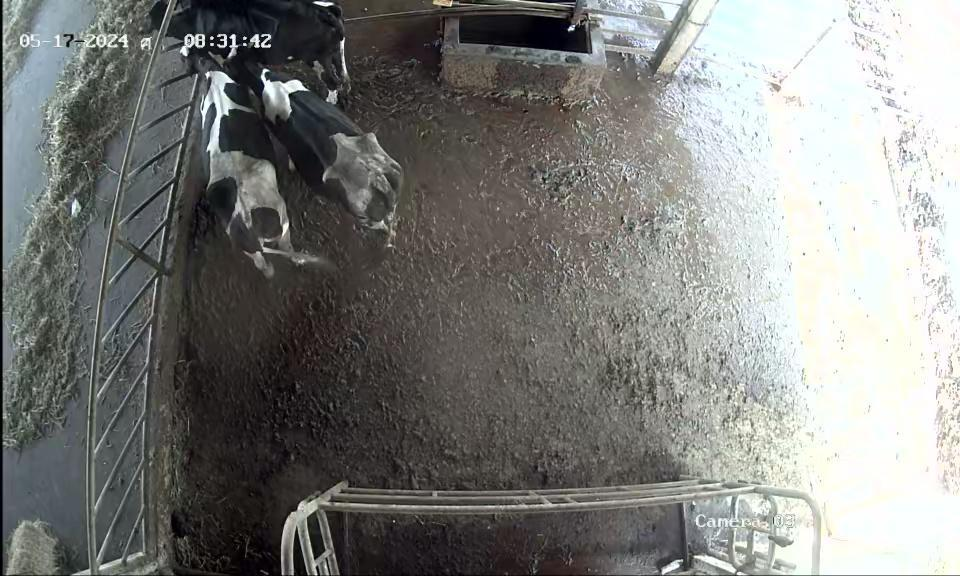eat: (126, 2, 235, 48)
stand: (179, 44, 327, 278), (222, 48, 402, 231)
